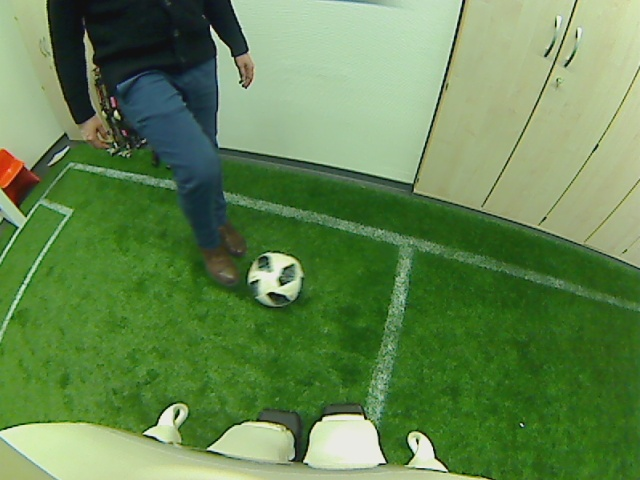ball: (245, 250, 305, 308)
